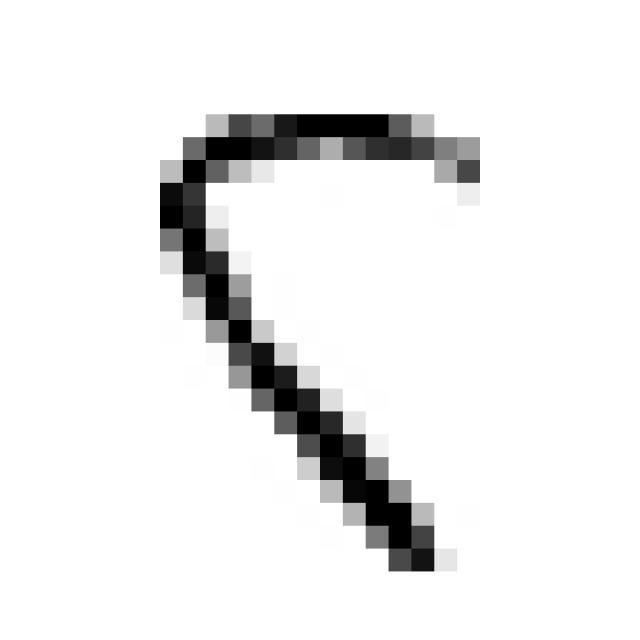2 -two-: (135, 96, 501, 592)
